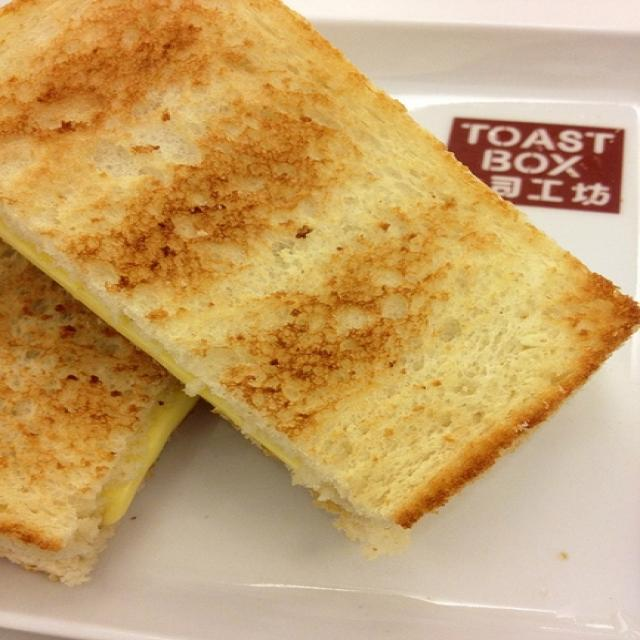面包点心: (6, 8, 615, 599)
